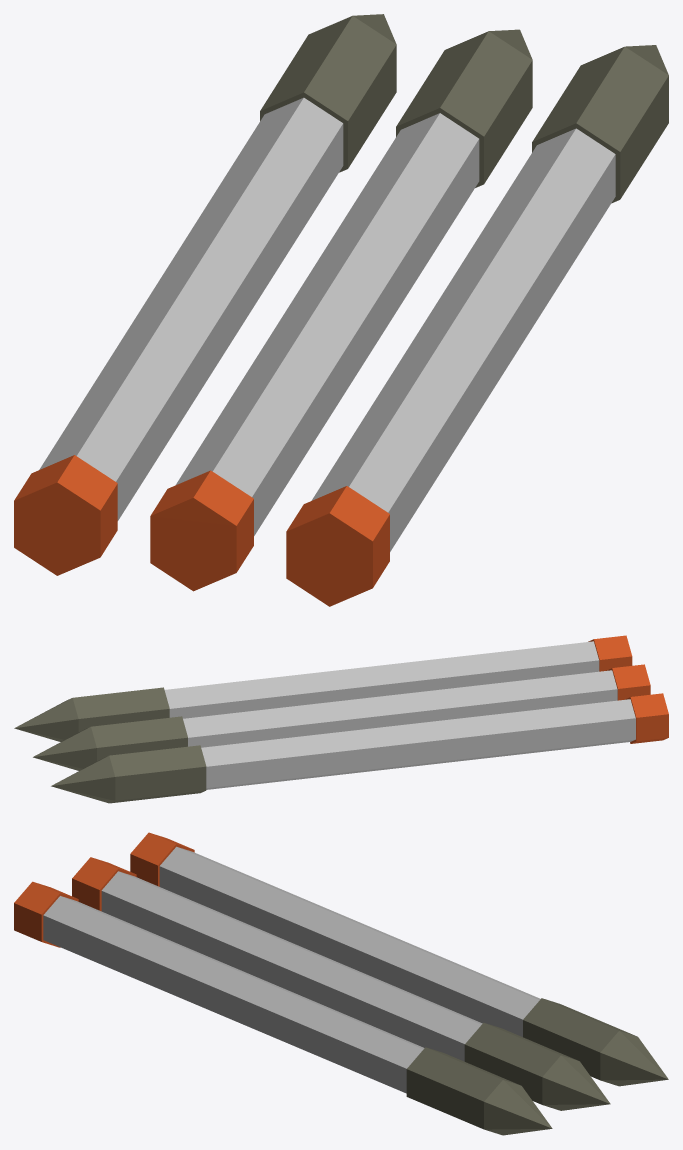
Rendered from ce_ammo2_s5_thermo_b.obj.
3 renders of one model, top to bottom at view 1: azimuth 30°, elevation 25°; view 2: azimuth 150°, elevation 25°; view 3: azimuth 270°, elevation 25°, orthographic. The views are drawn at different scales.
Parts seen in each view (by area): view 1: ce_ammo2_s5_thermo_b_1, ce_ammo2_s5_thermo_b_9, ce_ammo2_s5_thermo_b_5, ce_ammo2_s5_thermo_b_2, ce_ammo2_s5_thermo_b_10, ce_ammo2_s5_thermo_b_6, ce_ammo2_s5_thermo_b_8, ce_ammo2_s5_thermo_b_0, ce_ammo2_s5_thermo_b_4; view 2: ce_ammo2_s5_thermo_b_1, ce_ammo2_s5_thermo_b_9, ce_ammo2_s5_thermo_b_5, ce_ammo2_s5_thermo_b_2, ce_ammo2_s5_thermo_b_10, ce_ammo2_s5_thermo_b_6, ce_ammo2_s5_thermo_b_3, ce_ammo2_s5_thermo_b_0, ce_ammo2_s5_thermo_b_11, ce_ammo2_s5_thermo_b_7, ce_ammo2_s5_thermo_b_4, ce_ammo2_s5_thermo_b_8; view 3: ce_ammo2_s5_thermo_b_9, ce_ammo2_s5_thermo_b_1, ce_ammo2_s5_thermo_b_5, ce_ammo2_s5_thermo_b_10, ce_ammo2_s5_thermo_b_6, ce_ammo2_s5_thermo_b_2, ce_ammo2_s5_thermo_b_3, ce_ammo2_s5_thermo_b_7, ce_ammo2_s5_thermo_b_11, ce_ammo2_s5_thermo_b_8, ce_ammo2_s5_thermo_b_0, ce_ammo2_s5_thermo_b_4.
Part boxes in pixels (x1=…): ce_ammo2_s5_thermo_b_1: x1=39, y1=97, x2=343, y2=520; ce_ammo2_s5_thermo_b_9: x1=311, y1=128, x2=615, y2=551; ce_ammo2_s5_thermo_b_5: x1=176, y1=113, x2=479, y2=535; ce_ammo2_s5_thermo_b_2: x1=260, y1=16, x2=396, y2=172; ce_ammo2_s5_thermo_b_10: x1=532, y1=46, x2=668, y2=203; ce_ammo2_s5_thermo_b_6: x1=396, y1=31, x2=532, y2=187; ce_ammo2_s5_thermo_b_8: x1=286, y1=486, x2=389, y2=606; ce_ammo2_s5_thermo_b_0: x1=14, y1=455, x2=117, y2=575; ce_ammo2_s5_thermo_b_4: x1=150, y1=470, x2=253, y2=591; ce_ammo2_s5_thermo_b_1: x1=201, y1=699, x2=635, y2=789; ce_ammo2_s5_thermo_b_9: x1=164, y1=641, x2=599, y2=718; ce_ammo2_s5_thermo_b_5: x1=183, y1=670, x2=617, y2=747; ce_ammo2_s5_thermo_b_2: x1=109, y1=745, x2=206, y2=803; ce_ammo2_s5_thermo_b_10: x1=73, y1=687, x2=169, y2=732; ce_ammo2_s5_thermo_b_6: x1=91, y1=716, x2=187, y2=761; ce_ammo2_s5_thermo_b_3: x1=51, y1=756, x2=115, y2=803; ce_ammo2_s5_thermo_b_0: x1=625, y1=693, x2=668, y2=743; ce_ammo2_s5_thermo_b_11: x1=14, y1=698, x2=78, y2=741; ce_ammo2_s5_thermo_b_7: x1=33, y1=727, x2=96, y2=770; ce_ammo2_s5_thermo_b_4: x1=606, y1=664, x2=650, y2=700; ce_ammo2_s5_thermo_b_8: x1=588, y1=635, x2=632, y2=671; ce_ammo2_s5_thermo_b_9: x1=43, y1=896, x2=424, y2=1093; ce_ammo2_s5_thermo_b_1: x1=159, y1=846, x2=540, y2=1036; ce_ammo2_s5_thermo_b_5: x1=101, y1=871, x2=482, y2=1061; ce_ammo2_s5_thermo_b_10: x1=406, y1=1047, x2=518, y2=1129; ce_ammo2_s5_thermo_b_6: x1=464, y1=1022, x2=577, y2=1104; ce_ammo2_s5_thermo_b_2: x1=523, y1=998, x2=636, y2=1079; ce_ammo2_s5_thermo_b_3: x1=600, y1=1031, x2=668, y2=1086; ce_ammo2_s5_thermo_b_7: x1=542, y1=1055, x2=610, y2=1110; ce_ammo2_s5_thermo_b_11: x1=484, y1=1080, x2=552, y2=1135; ce_ammo2_s5_thermo_b_8: x1=14, y1=881, x2=78, y2=947; ce_ammo2_s5_thermo_b_0: x1=130, y1=832, x2=194, y2=886; ce_ammo2_s5_thermo_b_4: x1=72, y1=857, x2=136, y2=911.
Bounding box in the file's own units: 0.8368 × 0.0784 × 0.8368.
